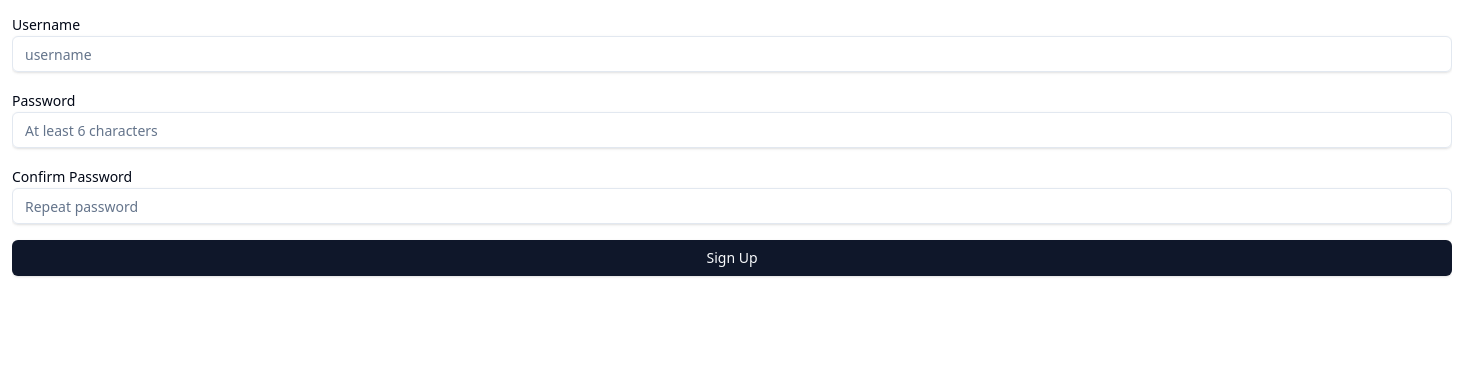
Test case: RegisterForm › validates empty username
Click the button "Sign Up" at point(732, 258), box [12, 240, 1452, 276]
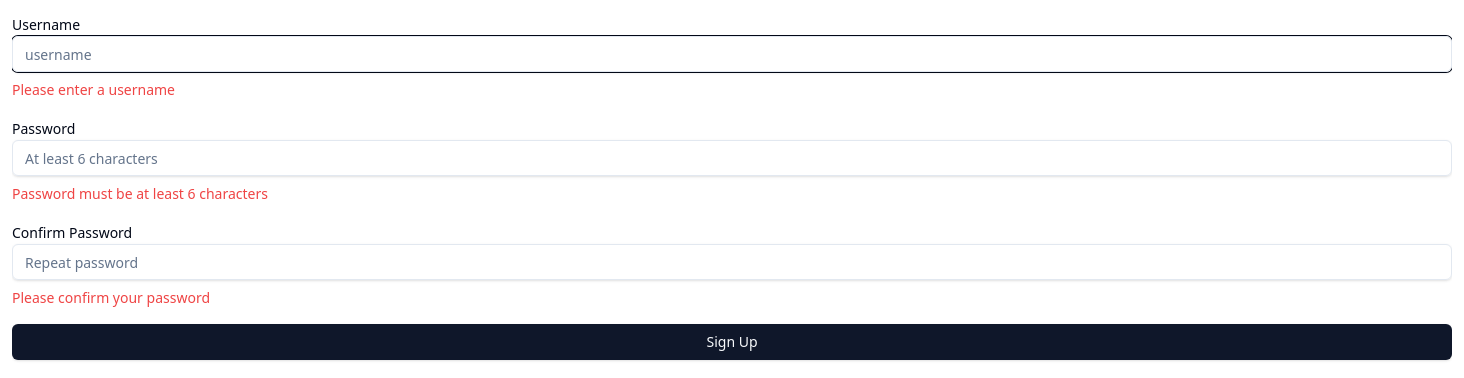
Check: the text "Please enter a username" is shown, box [12, 80, 175, 99]
